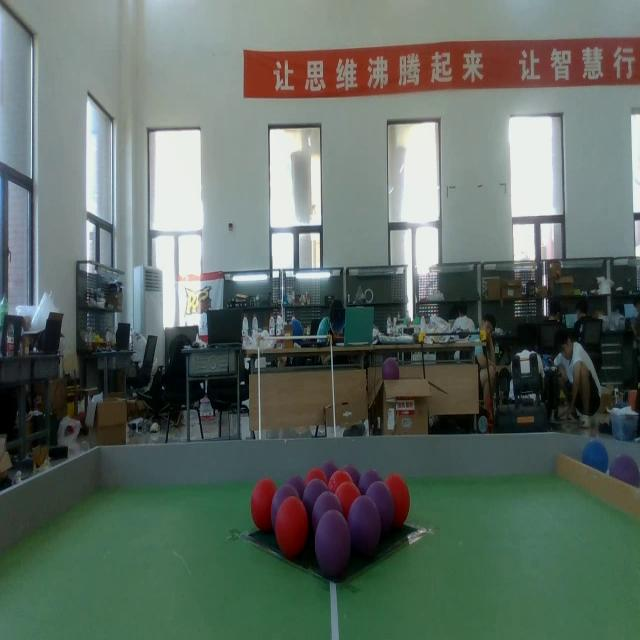invalid: (313, 509, 351, 578), (348, 496, 381, 556), (310, 491, 342, 533), (272, 484, 298, 525), (368, 481, 388, 526), (303, 478, 324, 514), (360, 471, 382, 500), (341, 461, 360, 487), (288, 475, 304, 502), (320, 459, 336, 486)
red: (276, 495, 310, 555), (252, 478, 278, 531), (385, 474, 409, 524), (336, 482, 361, 515), (328, 470, 352, 494), (307, 468, 326, 490)
